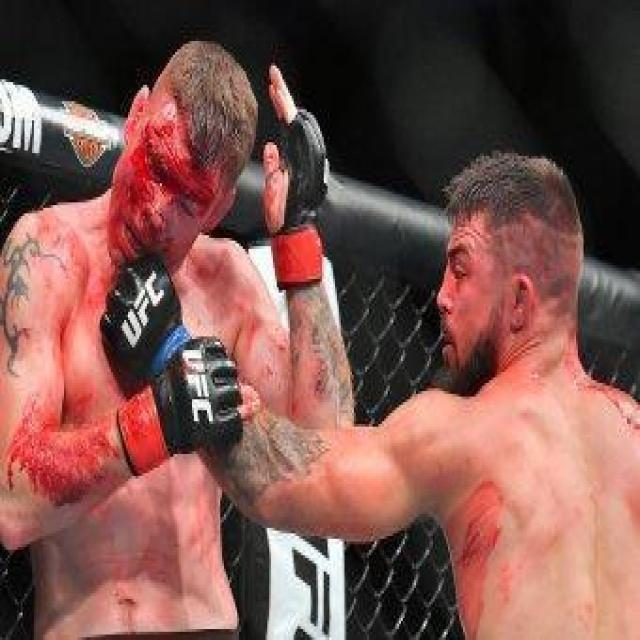flood: (86, 100, 254, 311), (13, 396, 126, 506)
